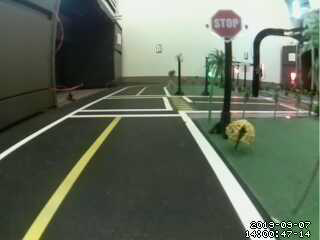Stop_Sign: (209, 7, 250, 44)
